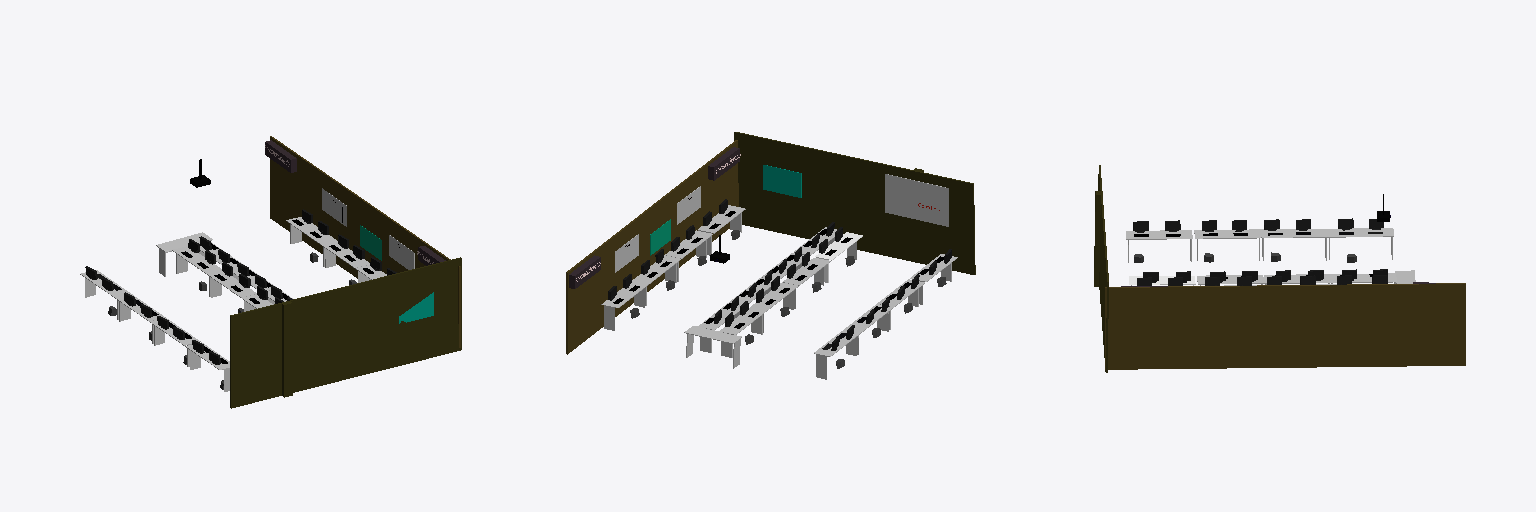
File: lab-b10.obj
3 renders of one model, left to right at view 1: azimuth 30°, elevation 25°; view 2: azimuth 150°, elevation 25°; view 3: azimuth 270°, elevation 25°, orthographic.
Visible parts, largest first — view 1: Cube.001, teste_Cube.000, Cube.002_Cube.000, Cube.000_Cube.000, Cube.019_Cube.021; view 2: Cube.001, teste_Cube.000, Cube_Cube.003, Cube.000_Cube.000, Cube.019_Cube.000, Cube.019_Cube.021; view 3: teste_Cube.000, Cube.001.
Part boxes in pixels (x1,y1,x2,y2): Cube.001: (230,257,461,408); teste_Cube.000: (270,136,460,347); Cube.002_Cube.000: (389,235,414,269); Cube.000_Cube.000: (399,292,433,323); Cube.019_Cube.021: (265,140,296,172); Cube.001: (734,132,975,274); teste_Cube.000: (566,140,738,354); Cube_Cube.003: (885,174,948,226); Cube.000_Cube.000: (763,165,801,197); Cube.019_Cube.000: (708,147,739,180); Cube.019_Cube.021: (569,255,600,288); teste_Cube.000: (1105,283,1465,369); Cube.001: (1094,165,1108,372).
Bounding box in the file's own units: 37.33 × 17.8 × 50.49.